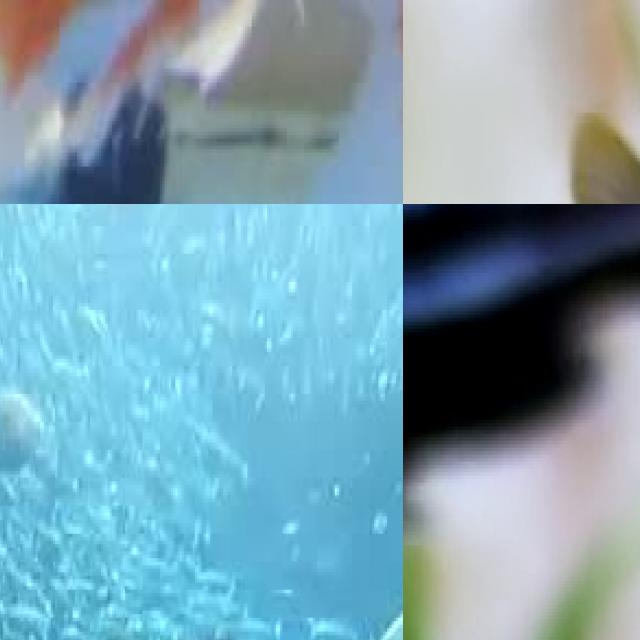fish: (0, 0, 403, 204), (343, 498, 403, 640)
